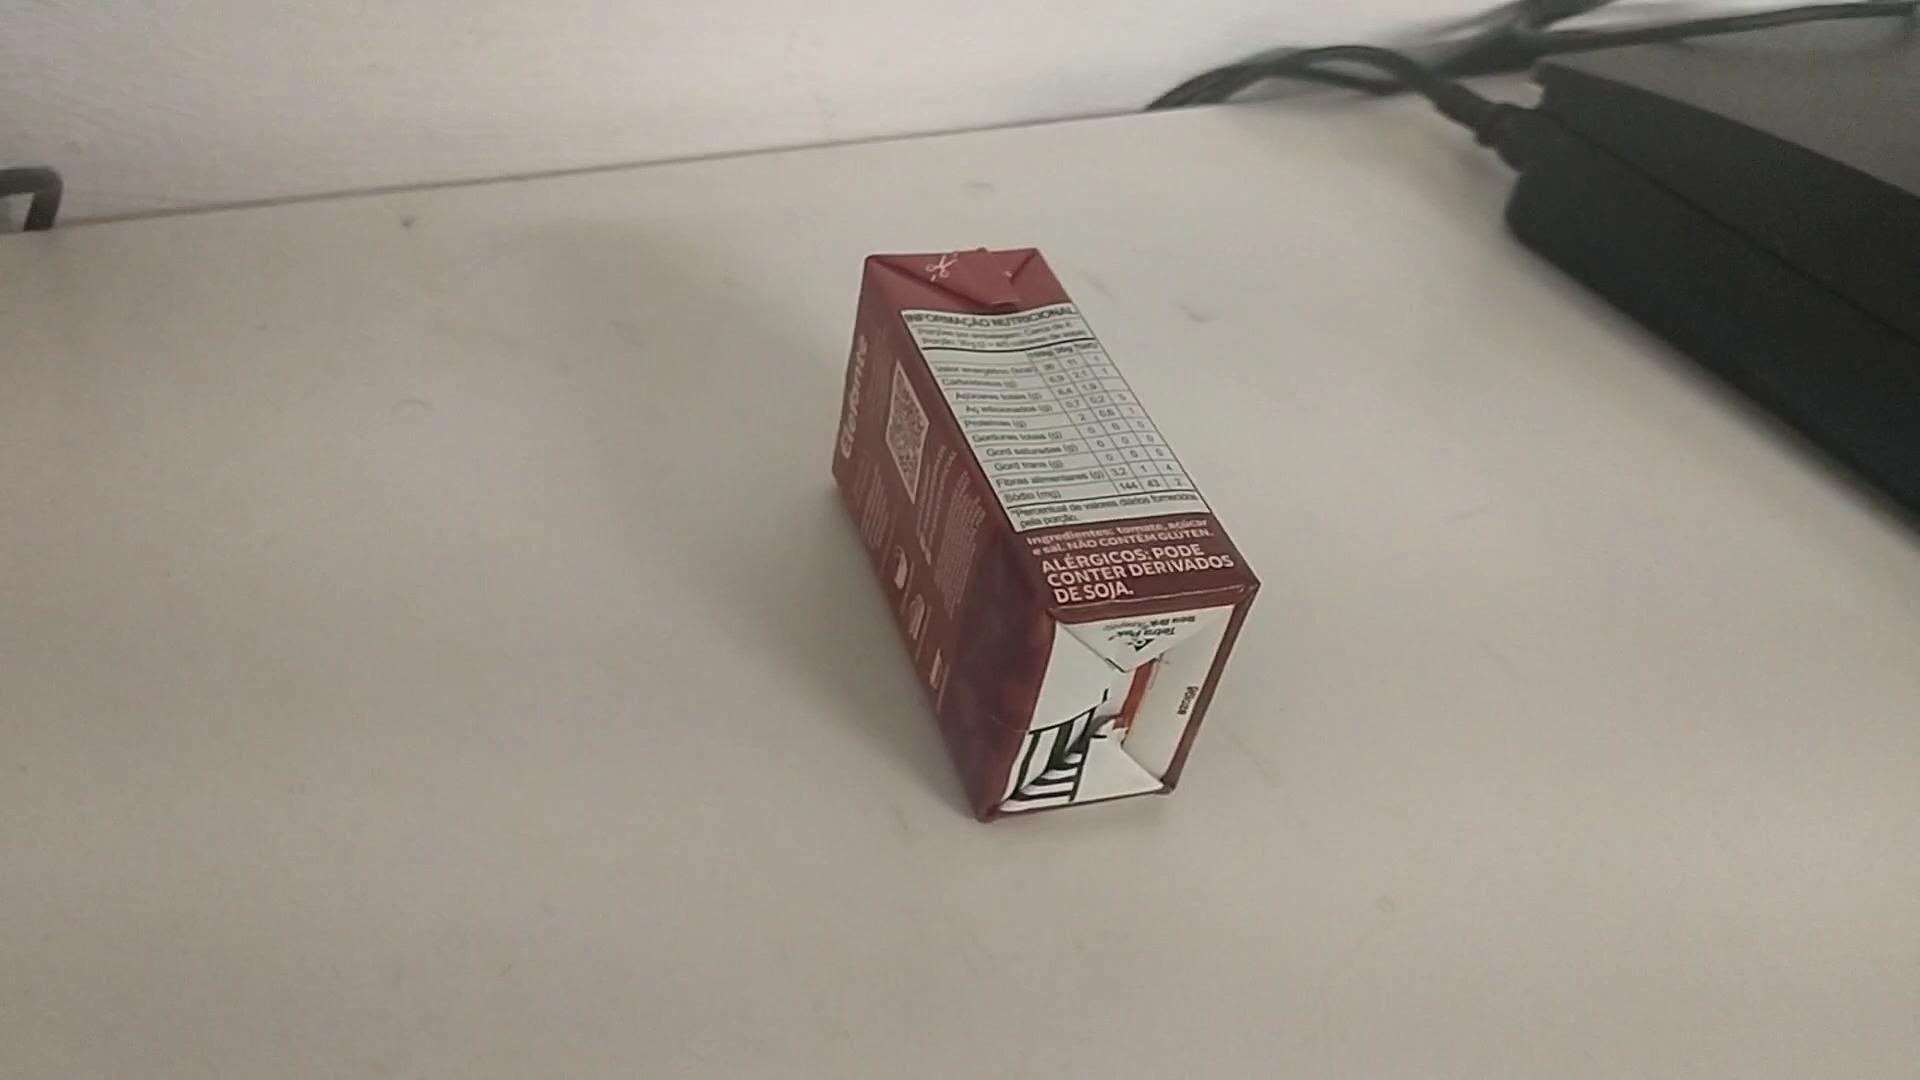tomate: (823, 231, 1279, 824)
